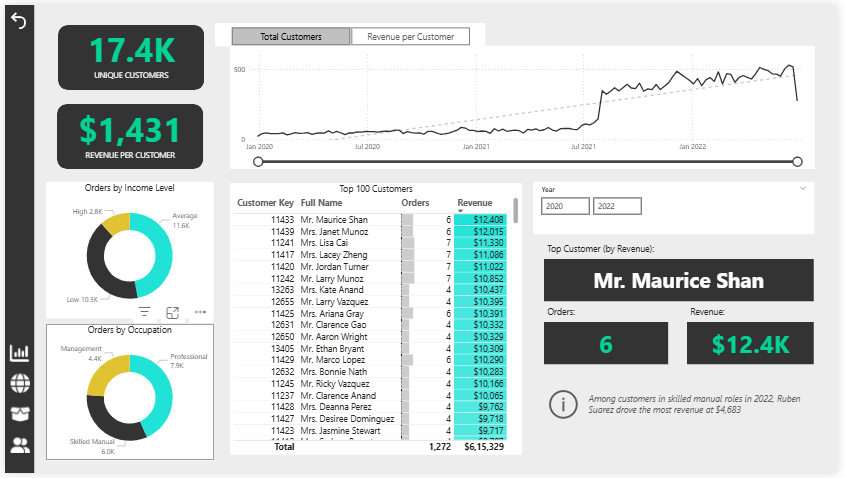

Layout of this report page (visuals, bound fields, positions):
{"tool":"powerbi","page":{"name":"Customer Detail","canvas":[1280,720],"ordinal":3},"visuals":[{"type":"shape","box":[0,0,45,720],"z":0},{"type":"actionButton","box":[2.5,516.7,45.6,37.8],"z":0,"group":"g1"},{"type":"shape","box":[81.7,30,225,100],"z":1000},{"type":"actionButton","box":[3.3,563.4,45.6,37.8],"z":1000,"group":"g1"},{"type":"shape","box":[80,152.7,225,100],"z":2000},{"type":"actionButton","box":[3.3,611.1,45.6,37.8],"z":2000,"group":"g1"},{"type":"card","fields":{"Values":["Measure Table.Total Customers"]},"box":[66.7,0,256.2,150],"z":3000},{"type":"actionButton","box":[3.3,657.8,45.6,37.8],"z":3000,"group":"g1"},{"type":"card","fields":{"Values":["Measure Table.Average Revenue per Customer"]},"box":[65,122.7,256.2,150],"z":4000},{"type":"lineChart","fields":{"Y":["Measure Table.Total Customers"],"Category":["Calendar Lookup.Date Hierarchy.Year","Calendar Lookup.Date Hierarchy.Start of Month","Calendar Lookup.Date Hierarchy.Start of Week","Calendar Lookup.Date Hierarchy.Date"]},"box":[345.9,63.3,898.6,188.8],"z":5000},{"type":"donutChart","title":"Orders by Income Level","fields":{"Category":["Customer Lookup.Income Level"],"Y":["Measure Table.Total Orders"]},"box":[63.8,272.5,257.5,210],"z":6000},{"type":"donutChart","title":"Orders by Occupation","fields":{"Y":["Measure Table.Total Orders"],"Category":["Customer Lookup.Occupation"]},"box":[63.8,490,257.5,210],"z":7000},{"type":"tableEx","title":"Top 100 Customers","fields":{"Values":["Customer Lookup.CustomerKey","Customer Lookup.Full Name","Measure Table.Total Orders","Measure Table.Total Revenue"]},"box":[346,273.6,449.4,418.4],"z":8000},{"type":"card","fields":{"Values":["Min(Customer Lookup.Full Name)"]},"box":[829.6,390.1,414.5,65.1],"z":9000},{"type":"card","fields":{"Values":["Measure Table.Total Orders"]},"box":[829.6,487,190.7,65.1],"z":10000},{"type":"card","fields":{"Values":["Measure Table.Total Revenue"]},"box":[1048.7,487,195.4,65.1],"z":11000},{"type":"textbox","box":[829.6,361.7,190.7,37.9],"z":12000},{"type":"textbox","box":[829.6,458.4,190.7,37.9],"z":13000},{"type":"textbox","box":[1048.7,458.4,190.7,37.9],"z":14000},{"type":"slicer","fields":{"Values":["Calendar Lookup.Year"]},"box":[811.6,272.4,432.9,80.3],"z":15000},{"type":"actionButton","box":[830,586.7,410,56.7],"z":16000},{"type":"actionButton","box":[3.3,5.6,35.6,35.6],"z":17000},{"type":"group","id":"g1","title":"Navigation Buttons","box":[2.5,516.7,46.4,178.9],"z":18000},{"type":"slicer","fields":{"Values":["Customer Metric Selection.Customer Metric Selection"]},"box":[323.3,27.1,415.9,36.2],"z":19000}]}

Visuals, with their boxes on the page's 1280x720 design canvas (x1, y1, x2, y2). These are canvas units, not pixel positions in the 845x478 screenshot, which may show the page scaled, cropped or inside an application window:
shape: box=[0, 0, 45, 720]
actionButton: box=[2, 517, 48, 554]
shape: box=[82, 30, 307, 130]
actionButton: box=[3, 563, 49, 601]
shape: box=[80, 153, 305, 253]
actionButton: box=[3, 611, 49, 649]
card - Measure Table.Total Customers: box=[67, 0, 323, 150]
actionButton: box=[3, 658, 49, 696]
card - Measure Table.Average Revenue per Customer: box=[65, 123, 321, 273]
lineChart - Measure Table.Total Customers x Calendar Lookup.Date Hierarchy.Year: box=[346, 63, 1244, 252]
"Orders by Income Level" donutChart: box=[64, 272, 321, 482]
"Orders by Occupation" donutChart: box=[64, 490, 321, 700]
"Top 100 Customers" tableEx: box=[346, 274, 795, 692]
card - Min(Customer Lookup.Full Name): box=[830, 390, 1244, 455]
card - Measure Table.Total Orders: box=[830, 487, 1020, 552]
card - Measure Table.Total Revenue: box=[1049, 487, 1244, 552]
textbox: box=[830, 362, 1020, 400]
textbox: box=[830, 458, 1020, 496]
textbox: box=[1049, 458, 1239, 496]
slicer - Calendar Lookup.Year: box=[812, 272, 1244, 353]
actionButton: box=[830, 587, 1240, 643]
actionButton: box=[3, 6, 39, 41]
"Navigation Buttons" group: box=[2, 517, 49, 696]
slicer - Customer Metric Selection.Customer Metric Selection: box=[323, 27, 739, 63]
